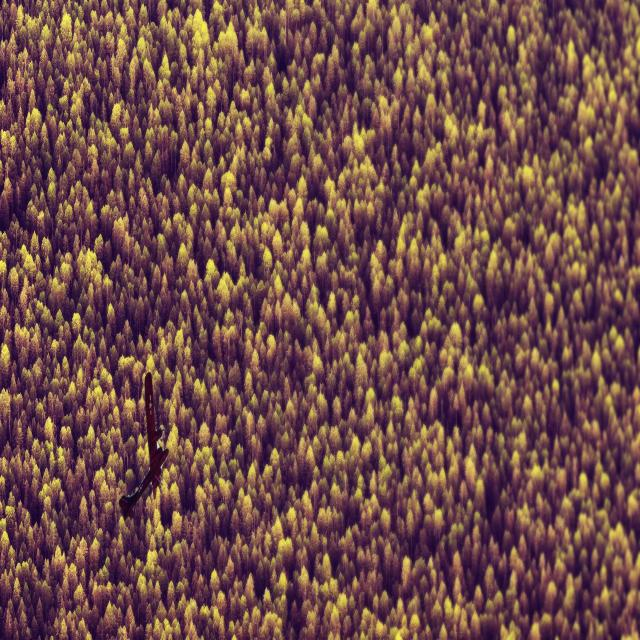airplane: (118, 371, 169, 522)
